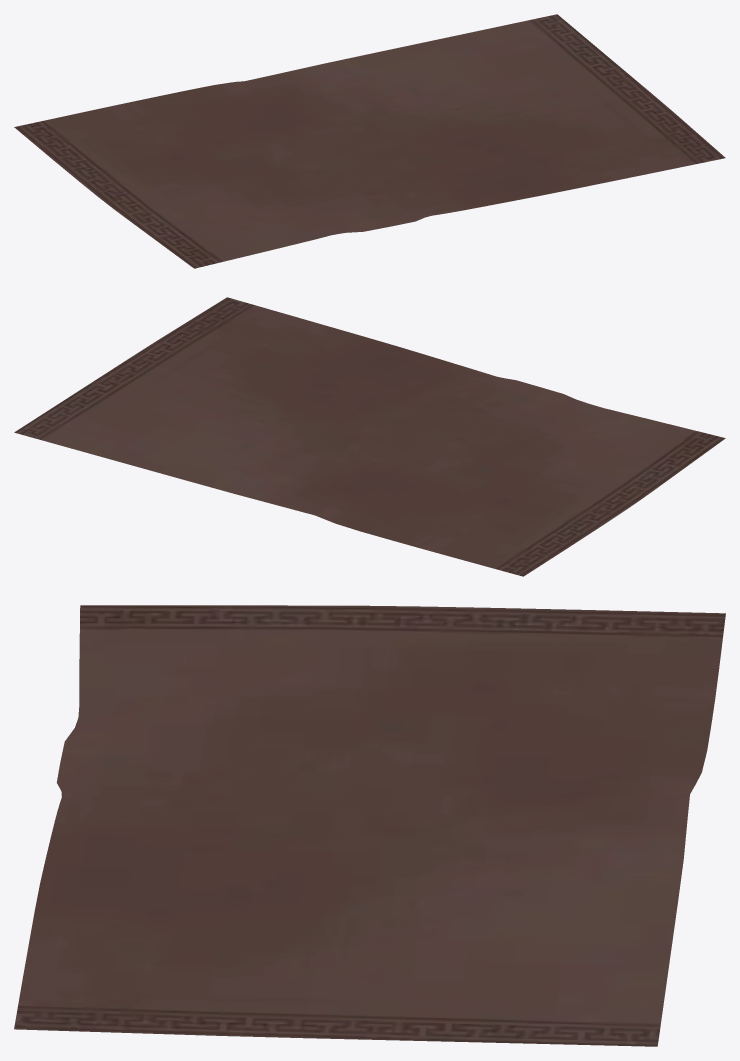
File: SM_tissu_1_0120b1.glb
3 views of the same model, one above another, from view 1: azimuth 30°, elevation 25°; view 2: azimuth 150°, elevation 25°; view 3: azimuth 270°, elevation 25° (orthographic). The views are drawn at different scales.
Visible parts, largest first — view 1: SM_tissu_1; view 2: SM_tissu_1; view 3: SM_tissu_1.
Boxes of the visible parts, x1,y1,x2,y2 form: SM_tissu_1: (14, 14, 725, 268); SM_tissu_1: (14, 297, 725, 576); SM_tissu_1: (14, 605, 725, 1046).
Size of the model in its own units: 5.29 by 0.00581 by 3.6.
Materials: 1 (1 with a texture image).
